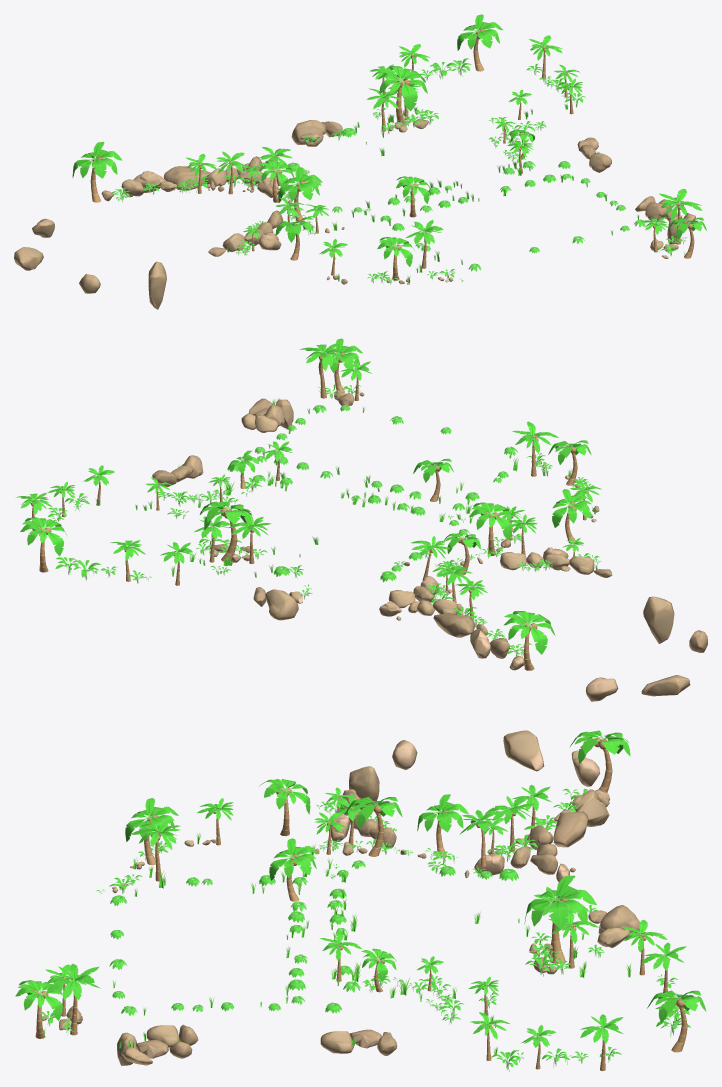
Rendered from pilmi-foliage.glb.
The picture shows the model from 3 angles, top to bottom: view 1: azimuth 30°, elevation 25°; view 2: azimuth 150°, elevation 25°; view 3: azimuth 270°, elevation 25°; orthographic projection. The views are drawn at different scales.
Parts seen in each view (by area): view 1: palm-tree-1-09, palm-tree-1-01, palm-tree-1-08, palm-tree-1-02, rock-1-01, rock-1-05, palm-tree-1-06, palm-tree-1-10, rock-6-03, palm-tree-2-06, palm-tree-1-03, palm-tree-1-05 (+3 smaller); view 2: palm-tree-1-01, palm-tree-1-08, rock-1-01, palm-tree-1-09, palm-tree-1-02, palm-tree-1-05, rock-6-03, palm-tree-2-06, rock-1-05, rock-1-08, palm-tree-1-07, palm-tree-1-06 (+3 smaller); view 3: palm-tree-1-09, palm-tree-1-01, palm-tree-1-03, palm-tree-1-08, rock-1-08, palm-tree-1-02, palm-tree-1-06, palm-tree-1-10, palm-tree-1-07, palm-tree-2-06, palm-tree-1-05, rock-1-05 (+14 smaller).
Part boxes in pixels (<box>): palm-tree-1-09: <box>377,66,427,125</box>; palm-tree-1-01: <box>72,141,122,202</box>; palm-tree-1-08: <box>457,14,502,71</box>; palm-tree-1-02: <box>278,167,322,222</box>; rock-1-01: <box>148,261,166,309</box>; rock-1-05: <box>163,166,210,190</box>; palm-tree-1-06: <box>377,237,414,280</box>; palm-tree-1-10: <box>258,160,294,202</box>; rock-6-03: <box>291,120,326,146</box>; palm-tree-2-06: <box>658,188,702,244</box>; palm-tree-1-03: <box>396,176,430,217</box>; palm-tree-1-05: <box>275,217,313,260</box>; palm-tree-1-01: <box>503,611,555,670</box>; palm-tree-1-08: <box>20,517,67,572</box>; rock-1-01: <box>643,596,674,643</box>; palm-tree-1-09: <box>200,501,251,561</box>; palm-tree-1-02: <box>469,502,513,555</box>; palm-tree-1-05: <box>552,489,591,543</box>; rock-6-03: <box>265,589,298,620</box>; palm-tree-2-06: <box>299,343,346,398</box>; rock-1-05: <box>433,613,474,637</box>; rock-1-08: <box>641,675,690,696</box>; palm-tree-1-07: <box>318,338,362,392</box>; palm-tree-1-06: <box>548,440,591,485</box>; palm-tree-1-09: <box>524,875,596,963</box>; palm-tree-1-01: <box>569,730,630,792</box>; palm-tree-1-03: <box>269,838,318,901</box>; palm-tree-1-08: <box>647,990,706,1052</box>; rock-1-08: <box>503,730,543,771</box>; palm-tree-1-02: <box>344,797,402,856</box>; palm-tree-1-06: <box>125,798,178,865</box>; palm-tree-1-10: <box>417,794,468,856</box>; palm-tree-1-07: <box>15,980,62,1038</box>; palm-tree-2-06: <box>45,963,100,1035</box>; palm-tree-1-05: <box>259,779,310,835</box>; rock-1-05: <box>553,811,588,847</box>.
Bounding box in the file's own units: 59.62 × 10.65 × 46.61.
3 materials, 3 textured.
